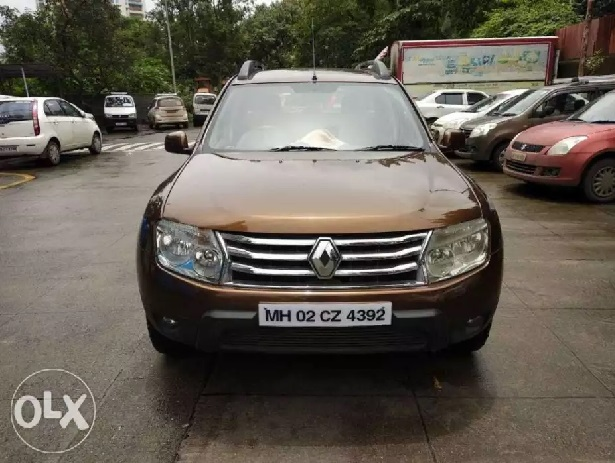licenseplate: (257, 300, 395, 329)
